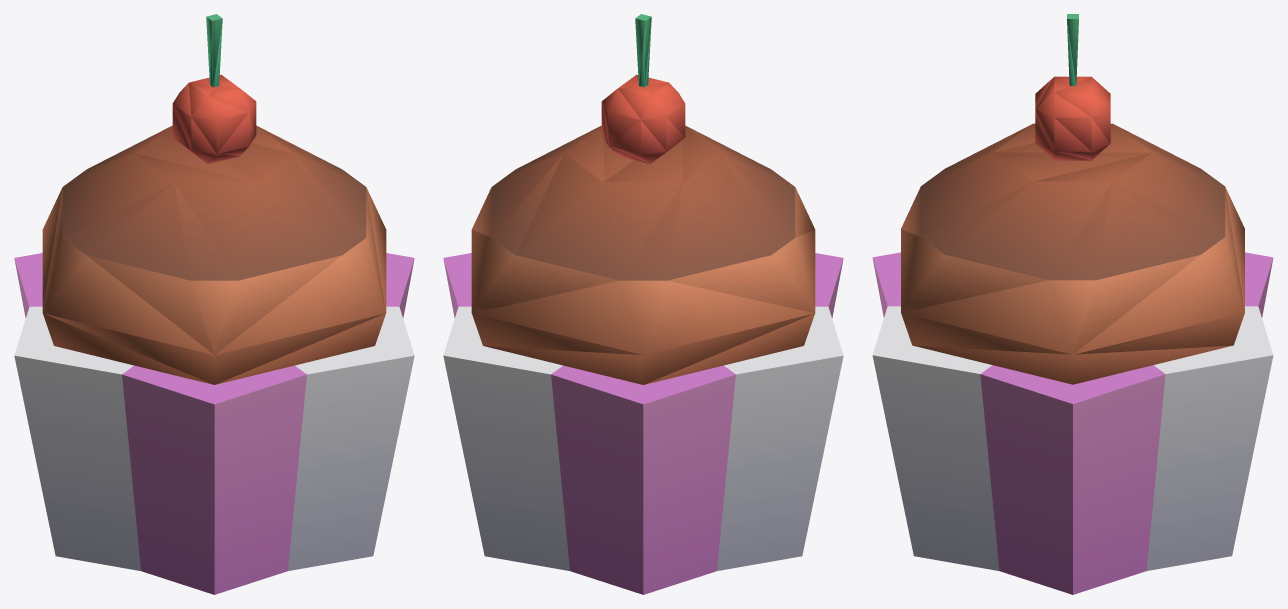
File: cupcake.fbx
3 renders of one model, left to right at view 1: azimuth 30°, elevation 25°; view 2: azimuth 150°, elevation 25°; view 3: azimuth 270°, elevation 25°, orthographic.
Visible parts, largest first — view 1: cupcake; view 2: cupcake; view 3: cupcake.
Part boxes in pixels (bbox=[...]): cupcake: bbox=[14, 14, 414, 594]; cupcake: bbox=[443, 14, 843, 594]; cupcake: bbox=[872, 14, 1273, 594].
Size of the model in its own units: 0.1006 by 0.12 by 0.0871.
1 material, 1 textured.
